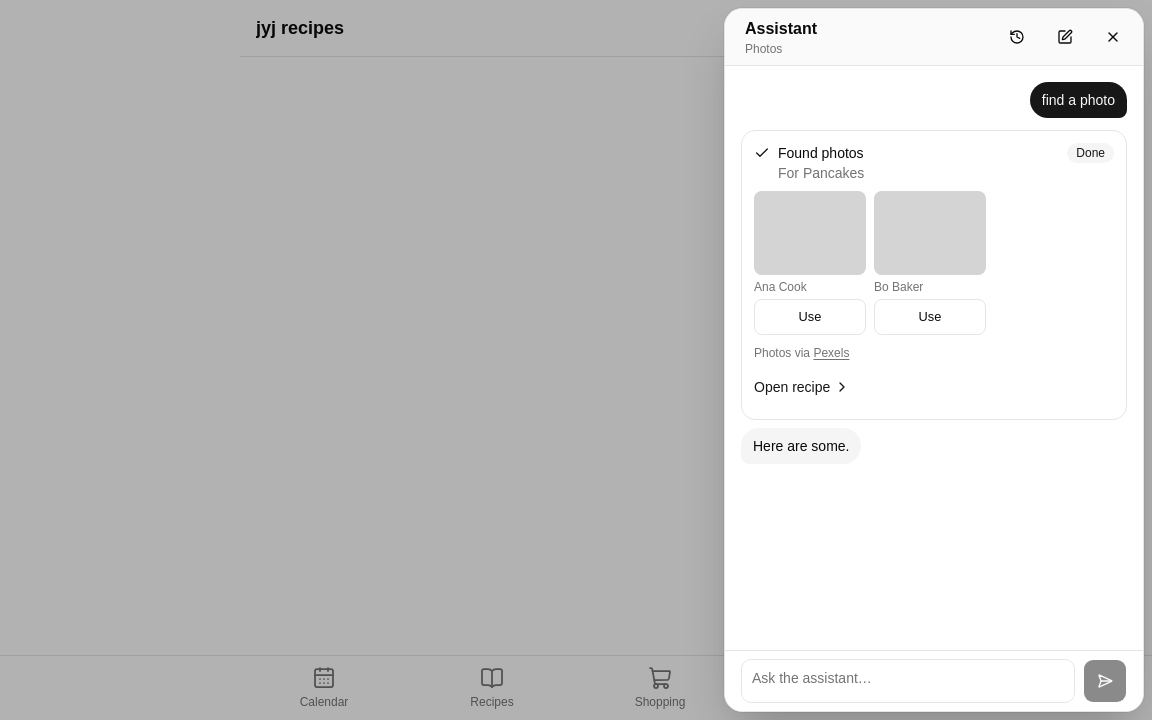
Test case: chat photo card › shows a thumbnail strip and uses a photo for the recipe
What coordinates should you click on to do the following:
click the button with aria-label "Use photo by Bo Baker"
I would click on:
 (930, 317)
Its box is x1=874 y1=299 x2=986 y2=335.
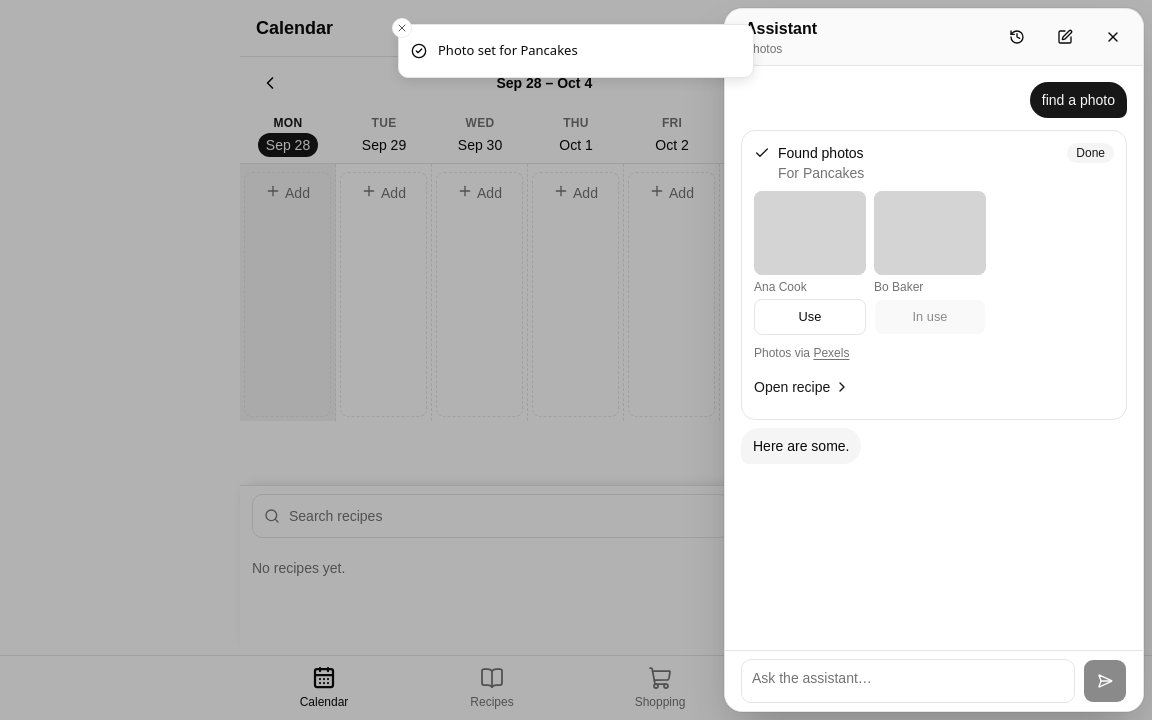
Result: the text "Photo set for Pancakes" is shown at x1=438 y1=41 x2=578 y2=60
Result: the button with aria-label "Use photo by Bo Baker" reads "In use" at x1=874 y1=299 x2=986 y2=335
